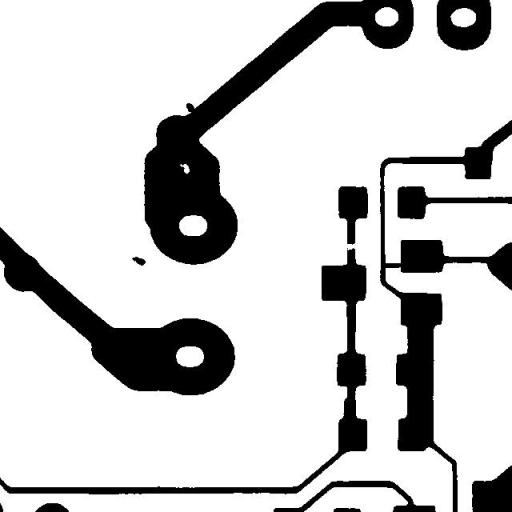copper: (124, 249, 153, 273)
open: (335, 235, 363, 258)
pin-hole: (172, 156, 197, 181)
short: (376, 255, 411, 275)
spur: (178, 95, 202, 120)
